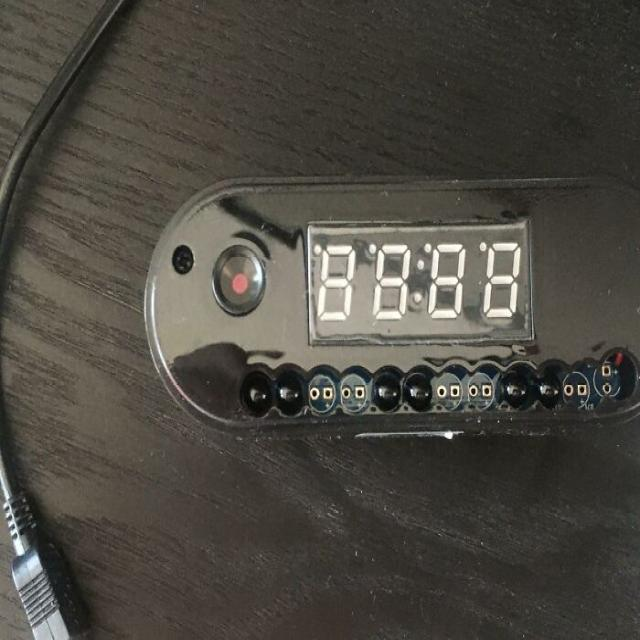hidden camera: (216, 253, 263, 312)
